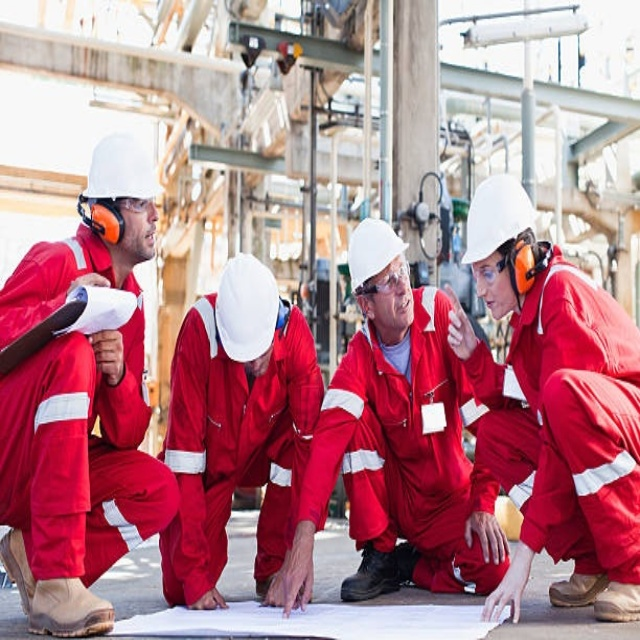Gafas: (355, 256, 413, 298), (472, 257, 508, 287), (113, 193, 158, 215)
Sin_guantes: (268, 529, 319, 613), (482, 568, 528, 621), (465, 511, 509, 566), (88, 327, 125, 383), (187, 584, 229, 610)
Sin_mascara: (389, 295, 413, 325), (481, 292, 505, 320), (140, 224, 160, 254)
